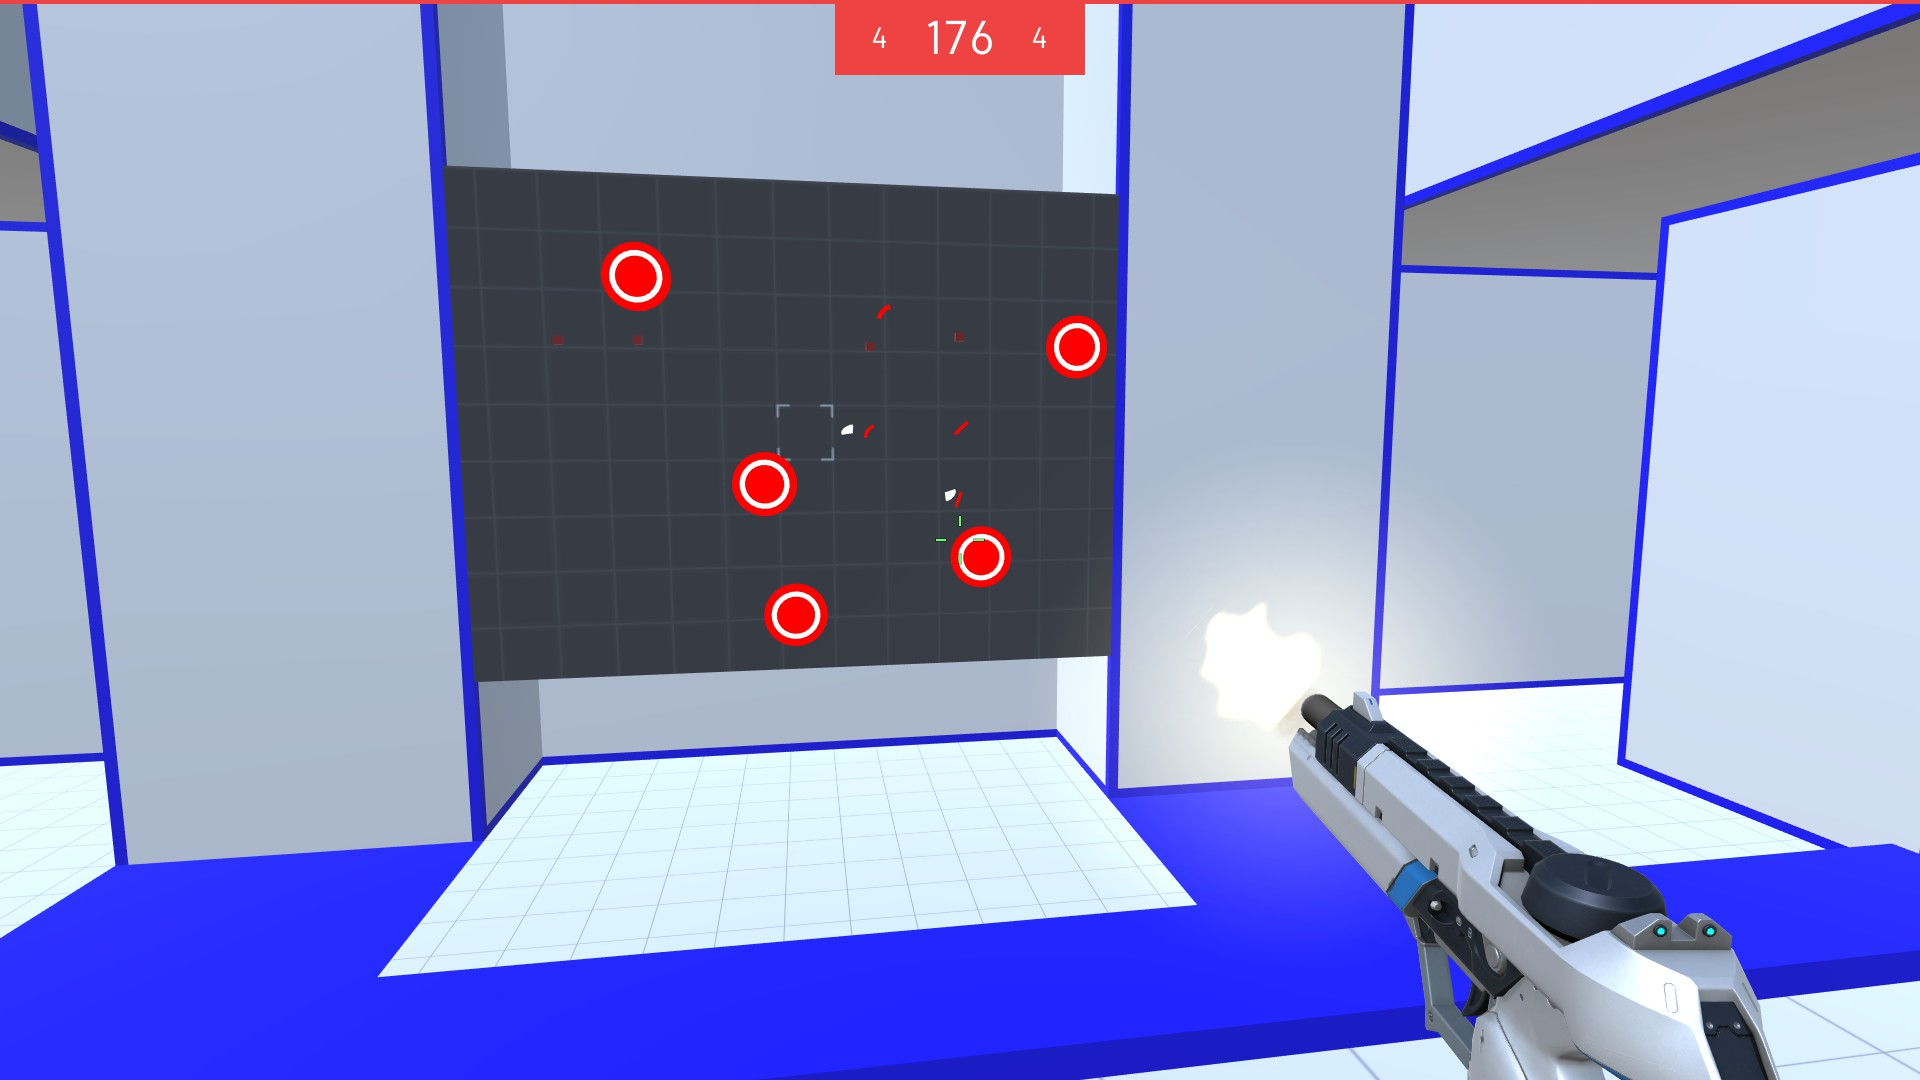target: (599, 237, 673, 318), (729, 447, 800, 516), (760, 579, 831, 647), (1042, 313, 1110, 382), (945, 526, 1015, 589)
